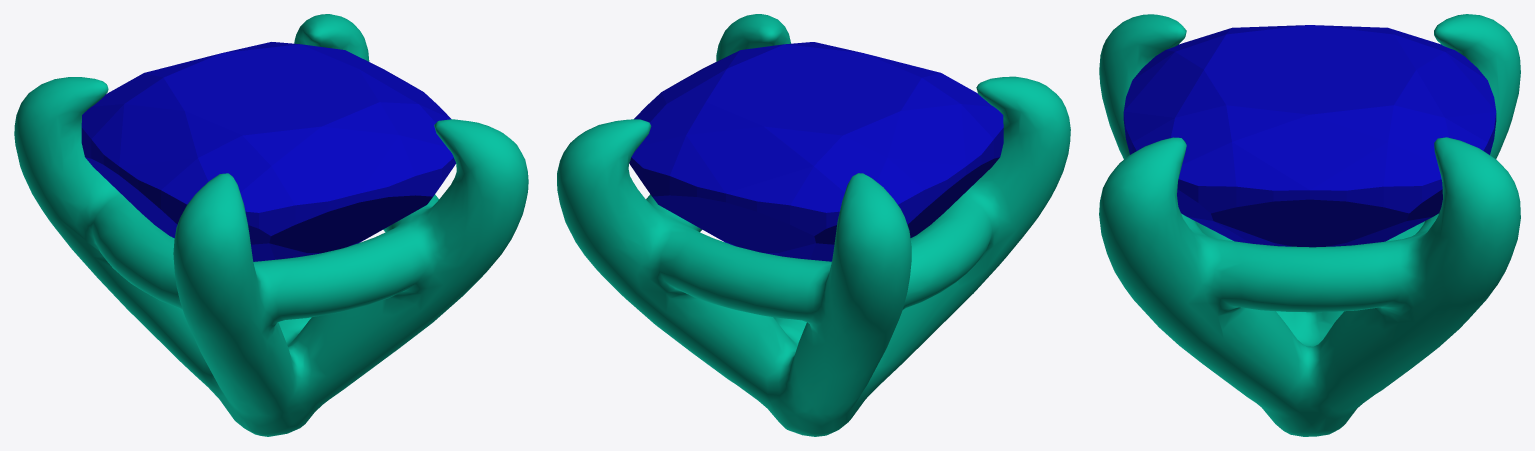
The model's file is Cushion Square.glb.
The picture shows the model from 3 angles, left to right: view 1: azimuth 30°, elevation 25°; view 2: azimuth 150°, elevation 25°; view 3: azimuth 270°, elevation 25°; orthographic projection. The views are drawn at different scales.
Visible parts, largest first — view 1: /GSMOD388300- CLAW PRONG_Cushion Square_IJ.3dm, Diamond_Cushion Square; view 2: /GSMOD388300- CLAW PRONG_Cushion Square_IJ.3dm, Diamond_Cushion Square; view 3: /GSMOD388300- CLAW PRONG_Cushion Square_IJ.3dm, Diamond_Cushion Square.
Boxes of the visible parts, x1,y1,x2,y2 form: /GSMOD388300- CLAW PRONG_Cushion Square_IJ.3dm: (14,14,528,436); Diamond_Cushion Square: (81,42,455,261); /GSMOD388300- CLAW PRONG_Cushion Square_IJ.3dm: (557,14,1070,436); Diamond_Cushion Square: (629,42,1003,261); /GSMOD388300- CLAW PRONG_Cushion Square_IJ.3dm: (1099,14,1520,436); Diamond_Cushion Square: (1123,25,1496,247).
Bounding box in the file's own units: 7.36 × 6.95 × 7.36.
